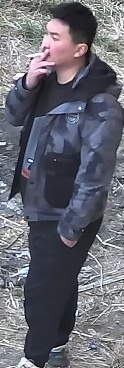smoking: (16, 0, 99, 110)
